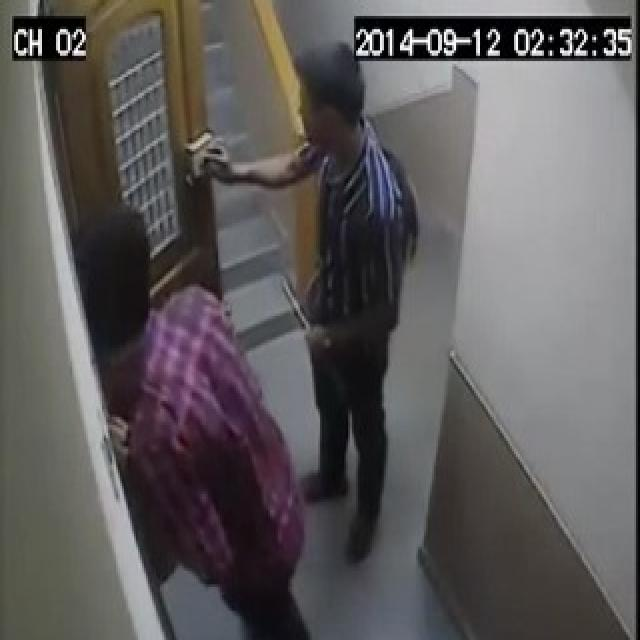burglary: (90, 134, 380, 526)
